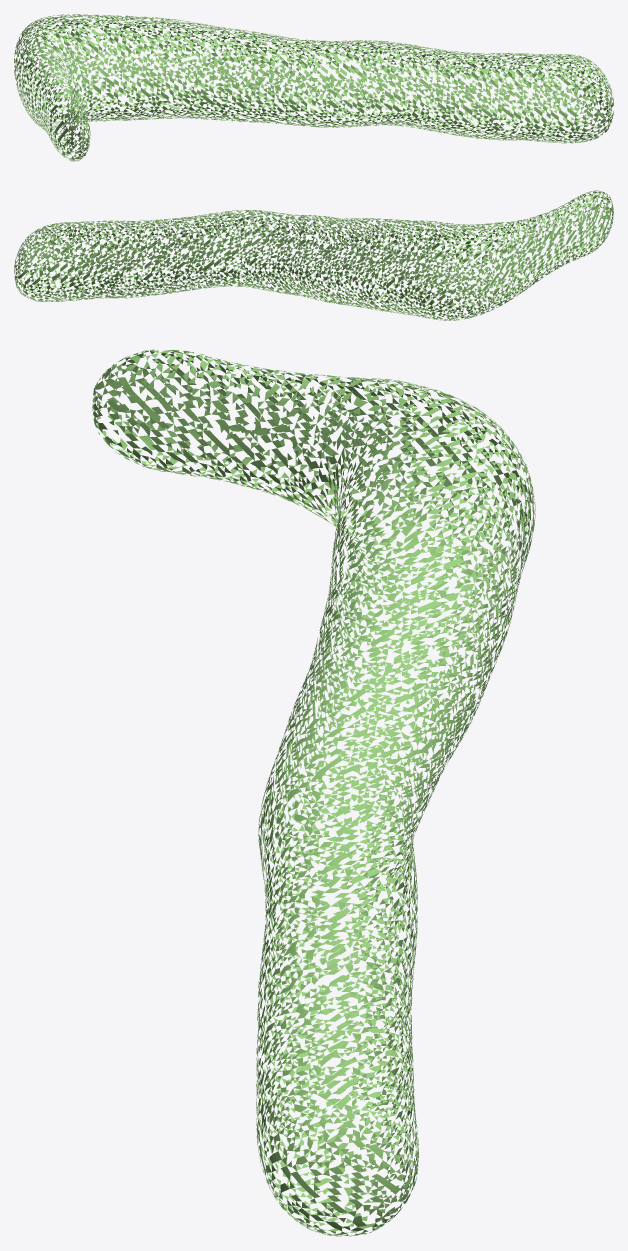
The model's file is morph_014.glb.
3 renders of one model, top to bottom at view 1: azimuth 30°, elevation 25°; view 2: azimuth 150°, elevation 25°; view 3: azimuth 270°, elevation 25°, orthographic. The views are drawn at different scales.
Size of the model in its own units: 110 by 38.52 by 39.38.
